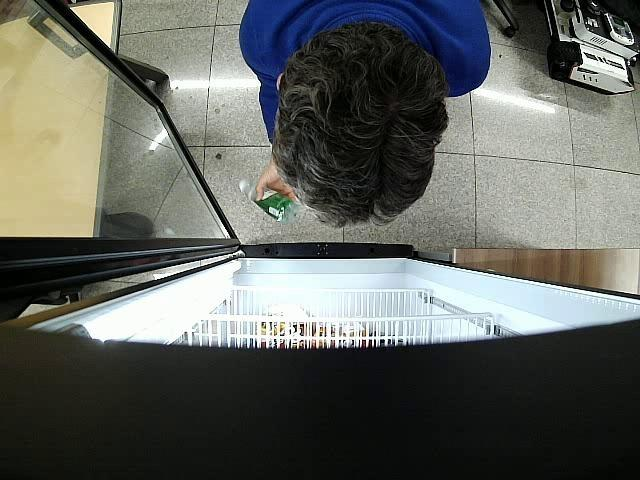18_trevi: (238, 180, 300, 223)
